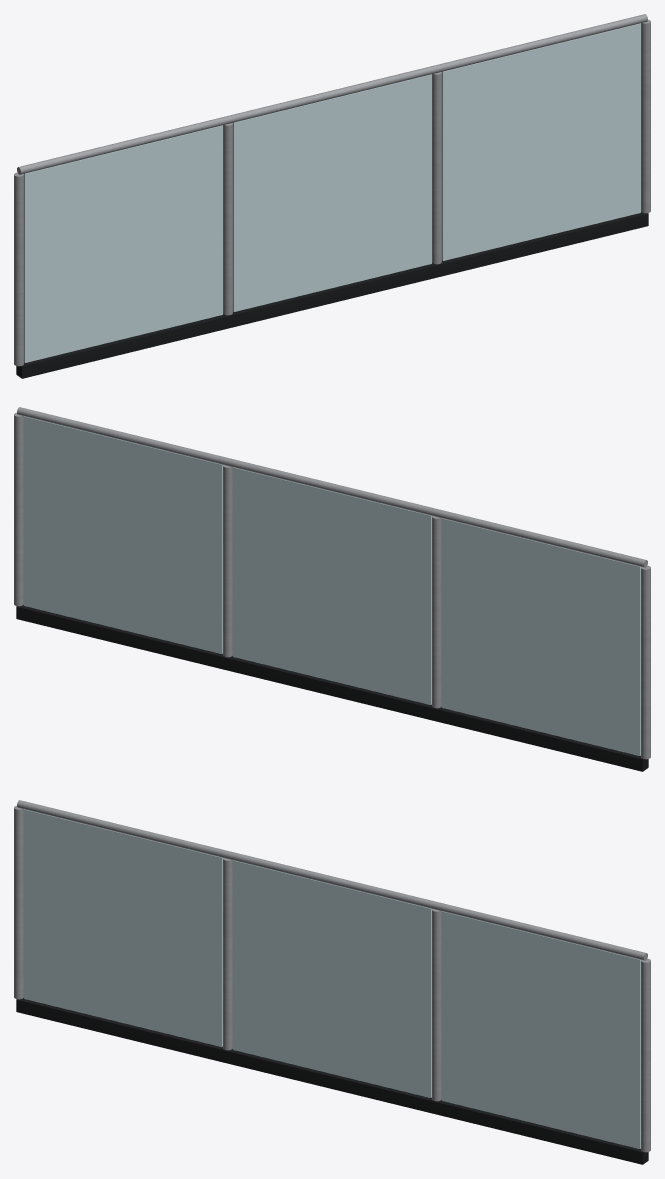
Rendered from gteki_fare_fence_glass_h1150.glb.
3 renders of one model, top to bottom at view 1: azimuth 30°, elevation 25°; view 2: azimuth 150°, elevation 25°; view 3: azimuth 330°, elevation 25°, orthographic.
Visible parts, largest first — view 1: VIS_glass, VIS_base_channel, VIS_posts, VIS_rails; view 2: VIS_glass, VIS_base_channel, VIS_posts, VIS_rails; view 3: VIS_glass, VIS_base_channel, VIS_posts, VIS_rails.
Part boxes in pixels (x1,y1,x2,y2): VIS_glass: (24,23,640,362); VIS_base_channel: (16,212,648,378); VIS_posts: (14,19,650,366); VIS_rails: (17,14,647,174); VIS_glass: (24,416,640,755); VIS_base_channel: (16,605,648,771); VIS_posts: (14,412,650,759); VIS_rails: (17,407,647,567); VIS_glass: (24,809,640,1148); VIS_base_channel: (16,998,648,1164); VIS_posts: (14,805,650,1152); VIS_rails: (17,800,647,960).
Size of the model in its own units: 3.65 by 1.15 by 0.06.
3 materials, 1 textured.
